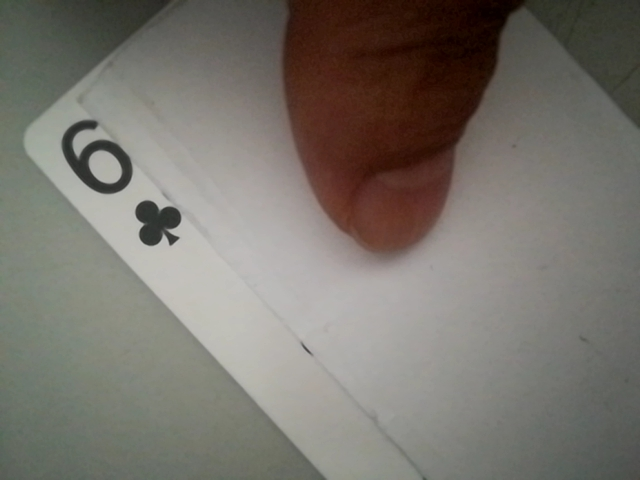mh 6: (46, 111, 196, 253)
